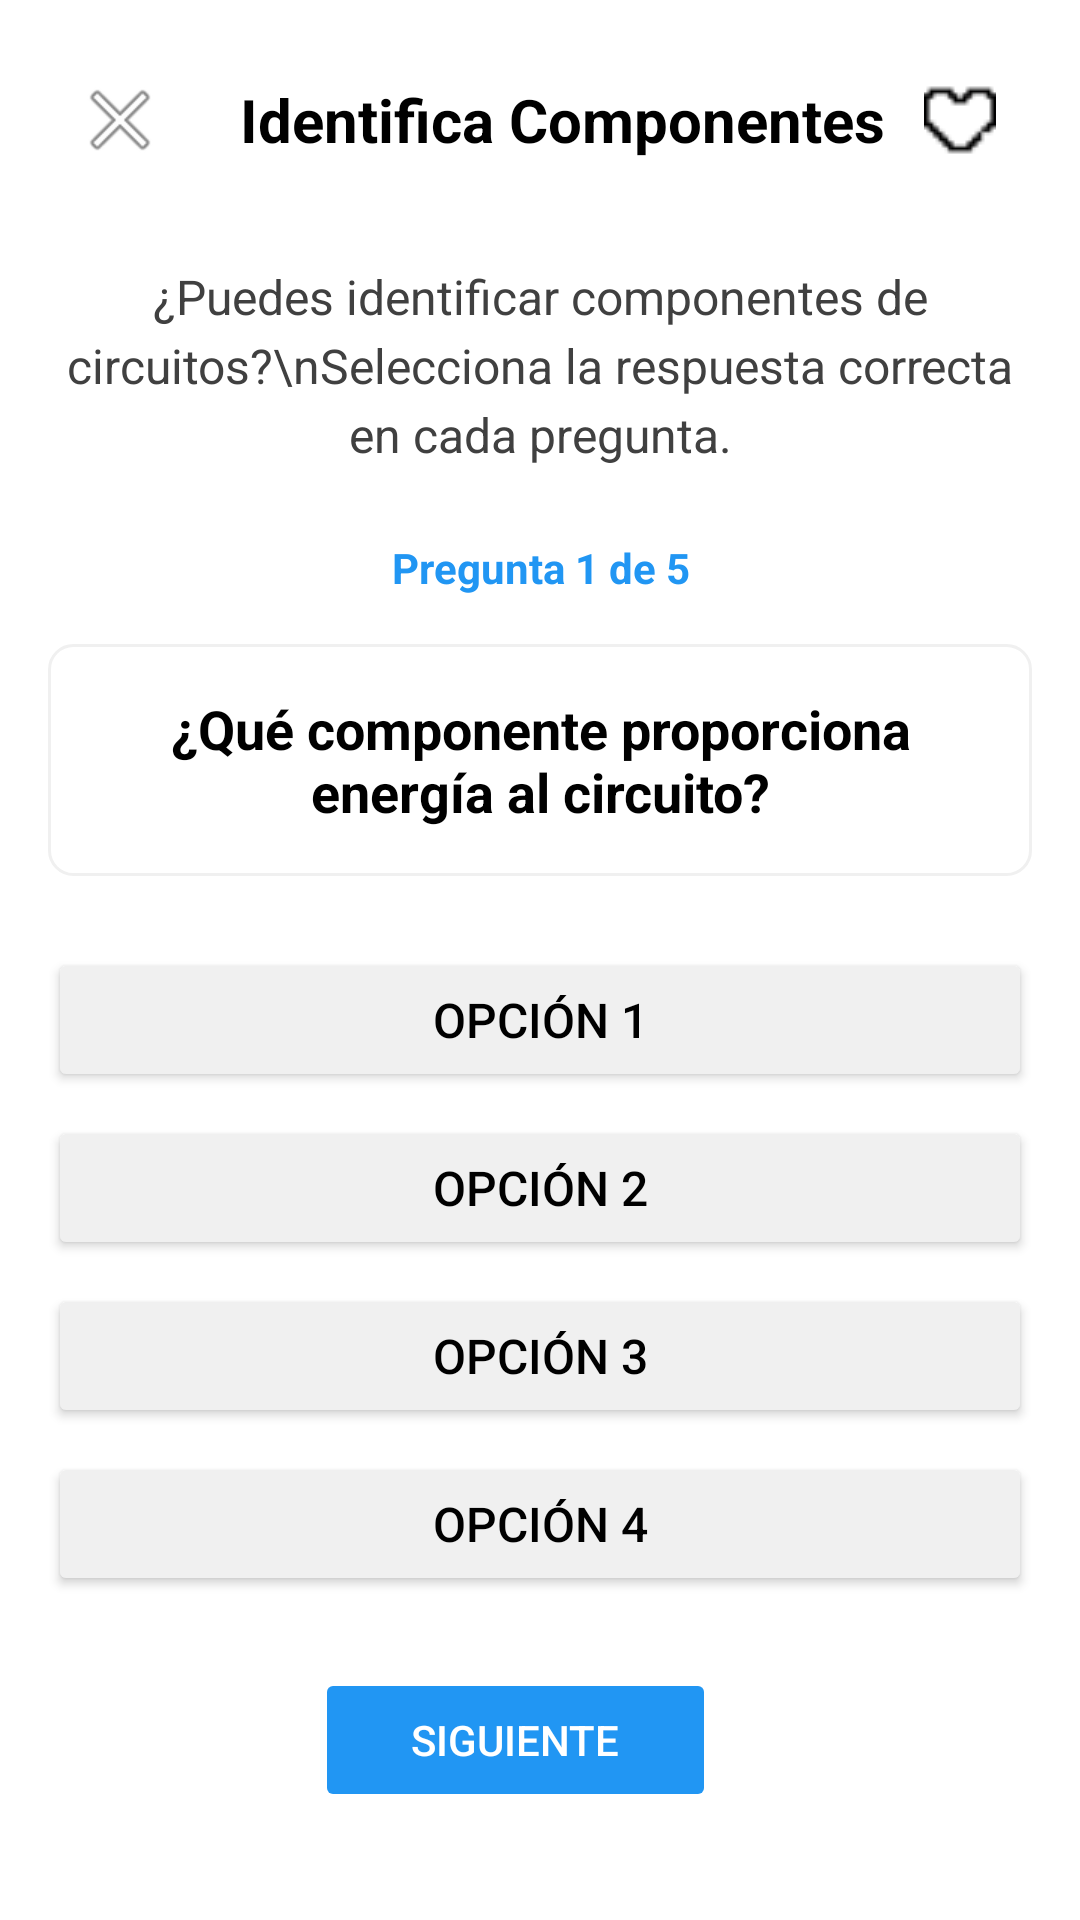

Locate icon controls on the screen. Image size 1080x1920, boxes as [left=x1, top=y1, right=x2, bottom=y2].
Marcar como favorito: [left=924, top=86, right=996, bottom=154]
Volver: [left=90, top=90, right=150, bottom=150]
